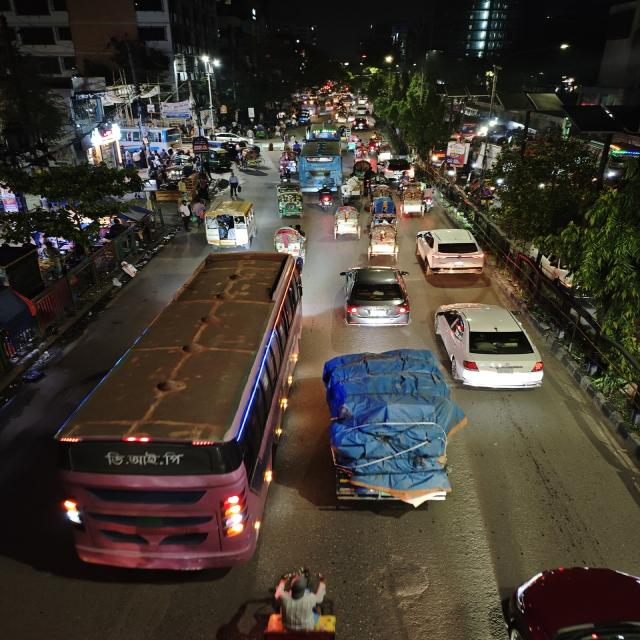bus: (50, 250, 297, 578), (299, 141, 343, 192), (305, 121, 338, 142)
car: (430, 299, 547, 394), (338, 263, 412, 331), (412, 227, 488, 277), (377, 158, 416, 180), (352, 117, 369, 131)
human_hauler: (203, 203, 259, 248)
motorcycle: (315, 186, 336, 212)
pedestrian: (224, 172, 244, 197), (189, 198, 205, 228)
pickup_van: (312, 358, 463, 517)
rickshaw: (366, 218, 402, 258), (272, 224, 308, 258), (330, 204, 361, 242), (398, 182, 428, 219), (275, 184, 306, 219), (370, 186, 398, 223), (341, 173, 364, 200), (241, 145, 266, 168), (277, 152, 298, 178), (351, 158, 373, 177), (352, 140, 366, 158), (357, 144, 372, 160)
